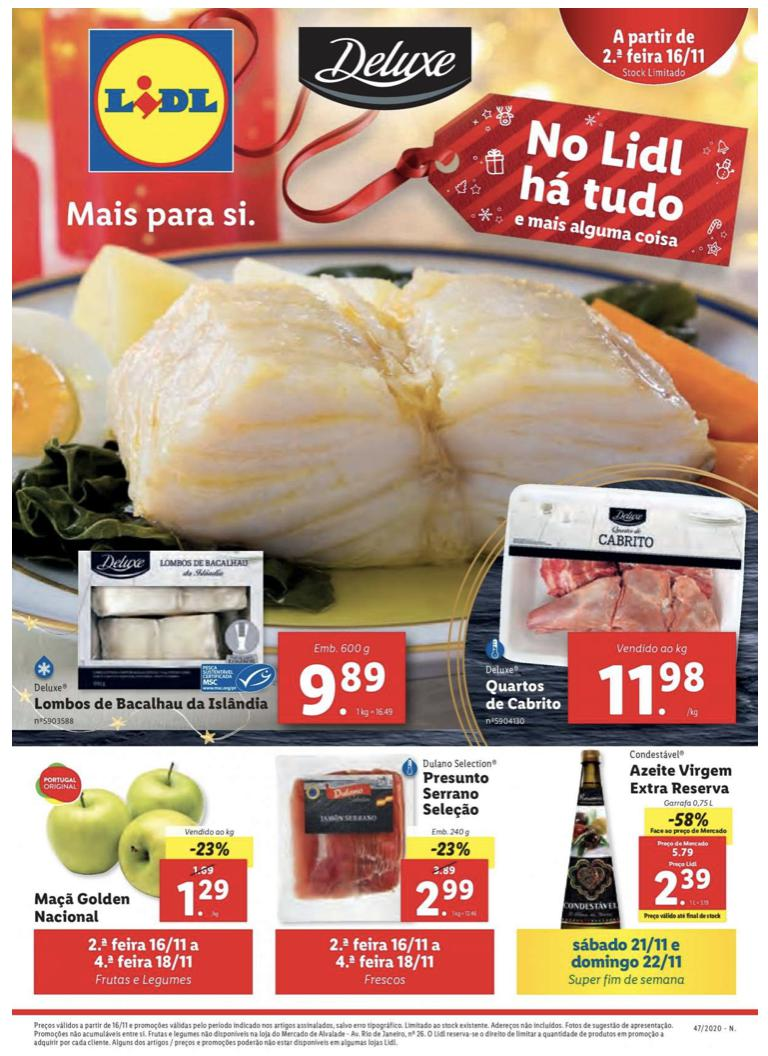name: (31, 694, 273, 719), (623, 758, 738, 798), (419, 770, 492, 820), (30, 890, 132, 924), (480, 679, 567, 714)
price: (592, 659, 713, 719), (298, 658, 394, 721), (644, 866, 721, 911), (409, 878, 480, 920), (174, 875, 234, 919)
product: (19, 528, 418, 728), (451, 475, 757, 730), (267, 748, 506, 928), (22, 755, 264, 928), (532, 745, 751, 933)
